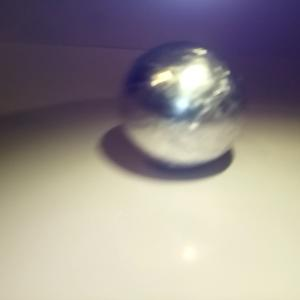alive_ball: (120, 41, 245, 170)
